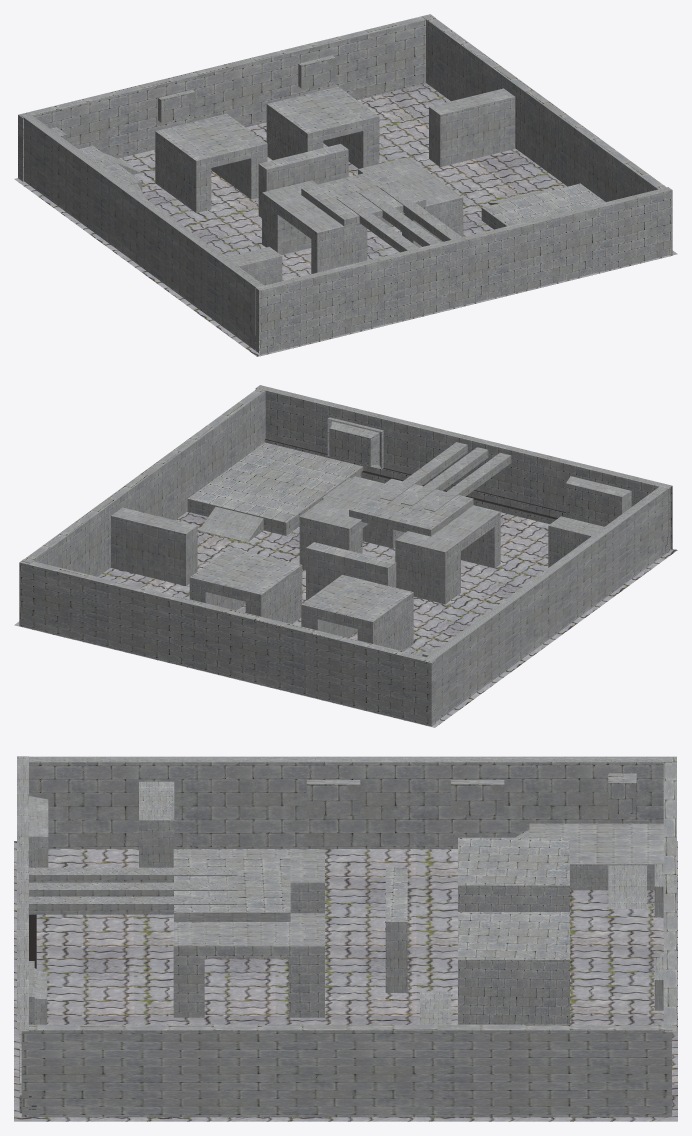
The model's file is enviourment game size.fbx.
3 views of the same model, one above another, from view 1: azimuth 30°, elevation 25°; view 2: azimuth 150°, elevation 25°; view 3: azimuth 270°, elevation 25° (orthographic). The views are drawn at different scales.
Parts seen in each view (by area): view 1: polySurface30; view 2: polySurface30; view 3: polySurface30.
Boxes of the visible parts, x1,y1,x2,y2 form: polySurface30: [14, 14, 677, 356]; polySurface30: [14, 385, 677, 727]; polySurface30: [14, 756, 677, 1121].
Size of the model in its own units: 10535 by 1584 by 10535.
